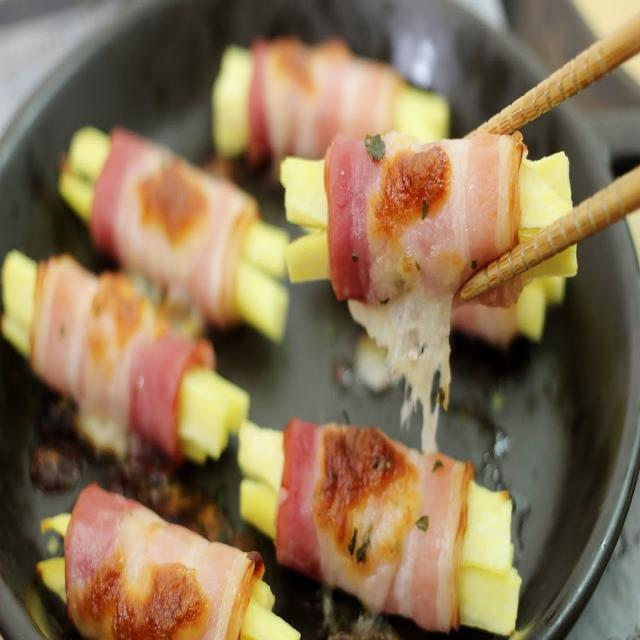Bacon Slice: (276, 132, 526, 632), (28, 256, 214, 458), (89, 128, 259, 325), (64, 484, 264, 639), (260, 36, 404, 157)
